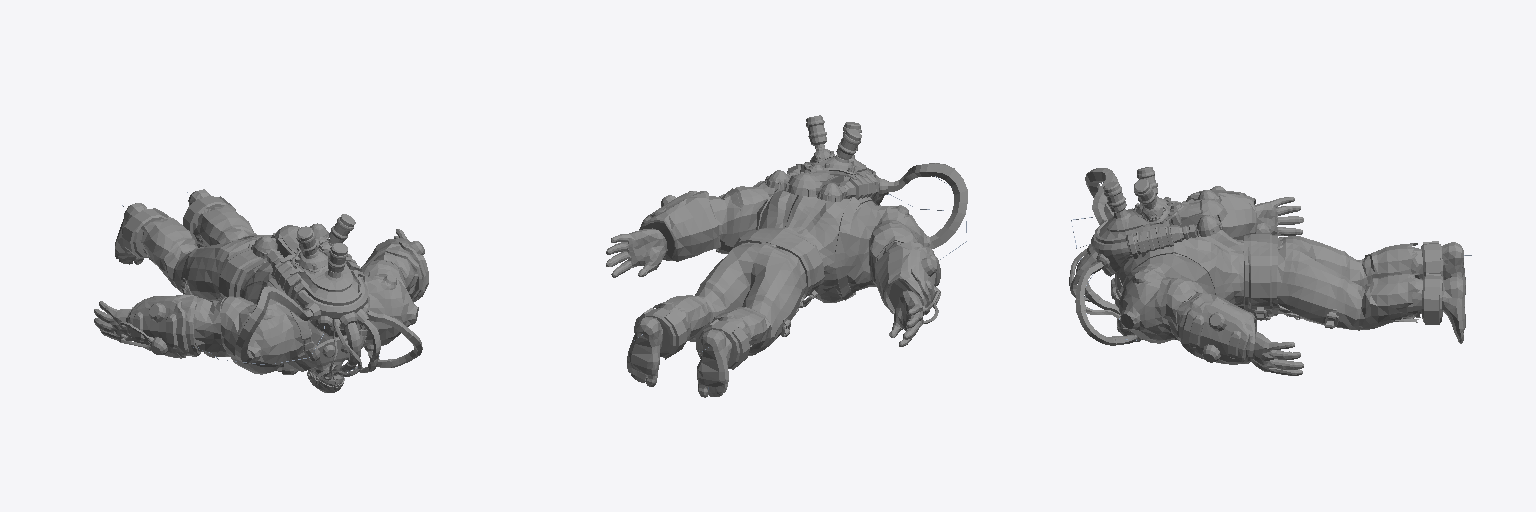
File: BaneBoss.obj
3 views of the same model, side by side, from view 1: azimuth 30°, elevation 25°; view 2: azimuth 150°, elevation 25°; view 3: azimuth 270°, elevation 25° (orthographic).
Visible parts, largest first — view 1: Bane_Boss_Body_Skin; view 2: Bane_Boss_Body_Skin; view 3: Bane_Boss_Body_Skin.
Boxes of the visible parts, x1=… form: Bane_Boss_Body_Skin: x1=94, y1=189, x2=428, y2=386; Bane_Boss_Body_Skin: x1=606, y1=115, x2=967, y2=397; Bane_Boss_Body_Skin: x1=1069, y1=167, x2=1465, y2=375.
Bounding box in the file's own units: 303 × 162 × 361.